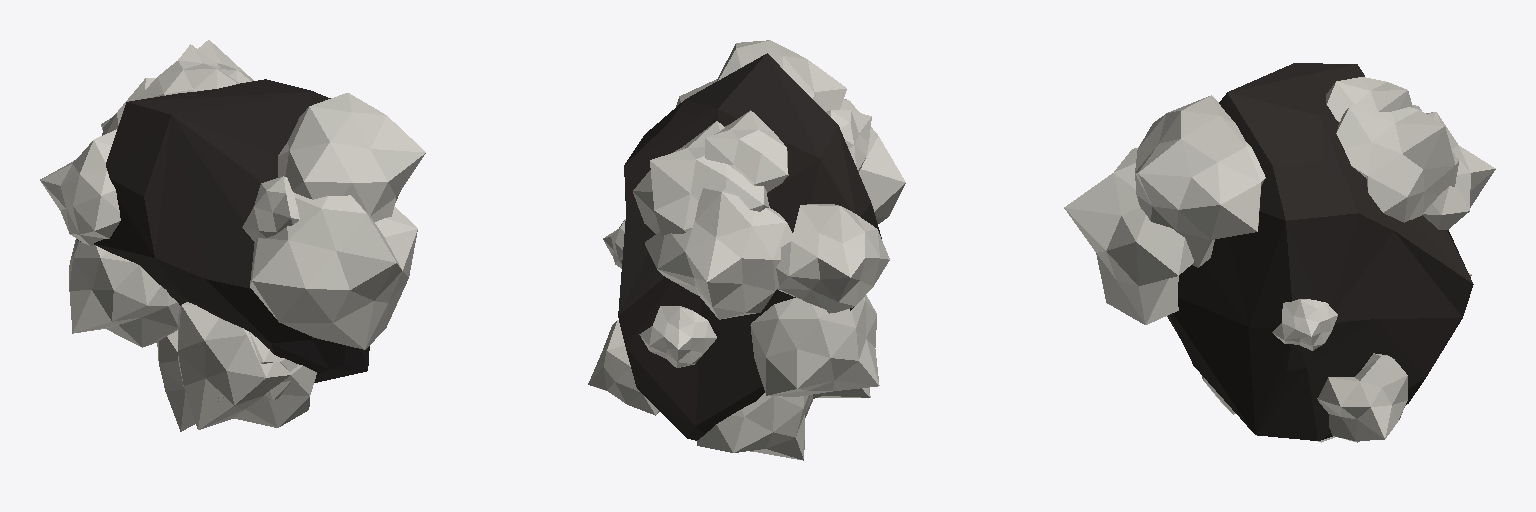
File: Metal3.obj
The picture shows the model from 3 angles: view 1: azimuth 30°, elevation 25°; view 2: azimuth 150°, elevation 25°; view 3: azimuth 270°, elevation 25°; orthographic projection.
Visible parts, largest first — view 1: Icosphere.004_Icosphere.006, Icosphere.007_Icosphere.009; view 2: Icosphere.004_Icosphere.006, Icosphere.007_Icosphere.009; view 3: Icosphere.007_Icosphere.009, Icosphere.004_Icosphere.006.
Boxes of the visible parts, x1=… form: Icosphere.004_Icosphere.006: x1=40, y1=40, x2=425, y2=431; Icosphere.007_Icosphere.009: x1=77, y1=79, x2=369, y2=382; Icosphere.004_Icosphere.006: x1=588, y1=40, x2=905, y2=460; Icosphere.007_Icosphere.009: x1=618, y1=53, x2=881, y2=440; Icosphere.007_Icosphere.009: x1=1167, y1=63, x2=1473, y2=440; Icosphere.004_Icosphere.006: x1=1064, y1=77, x2=1495, y2=442.
Size of the model in its own units: 1.21 by 1.37 by 1.52.